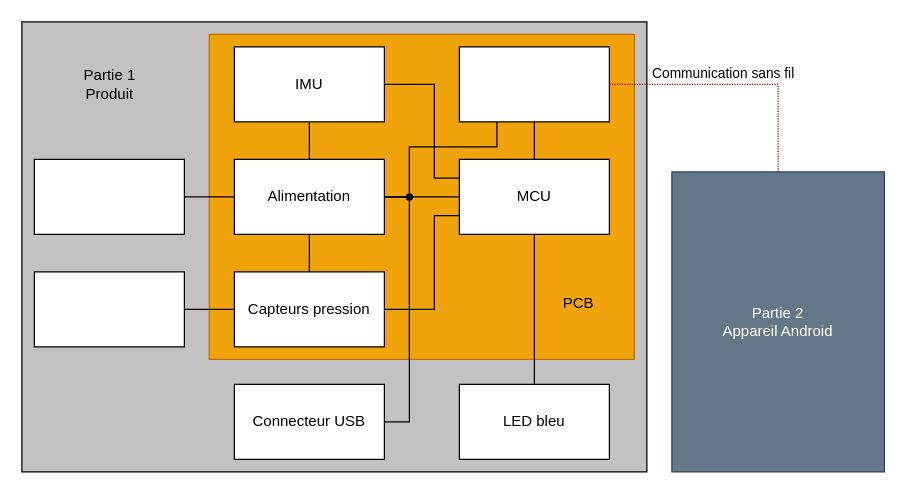
The diagram is 906 pixels wide and 494 high, and some of its shapes have lost their labels. Here are the shapes that lost their labels. From the top down, the centre of each, then its label:
point 533,84: Module BLE
point 108,196: Générateur (turbine)
point 108,309: Tube Pitot
